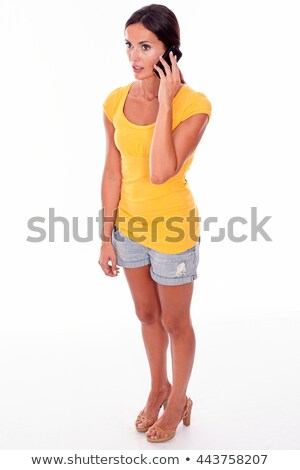phone: (151, 34, 191, 86)
talk: (124, 26, 198, 101)
